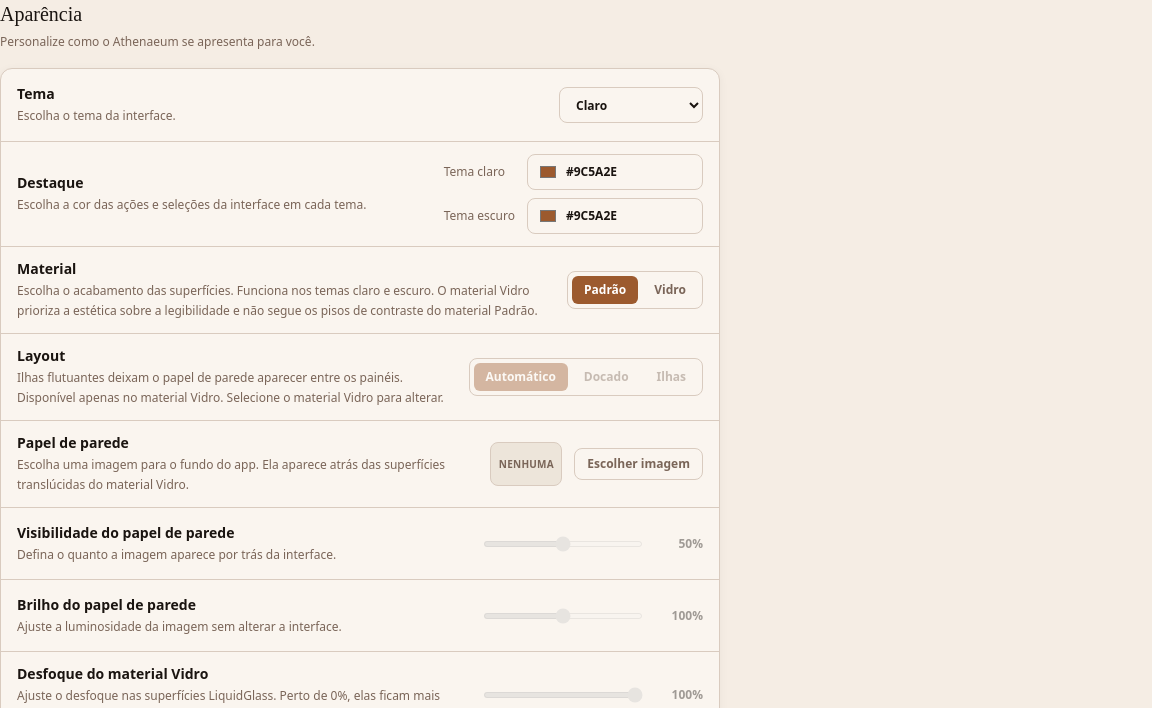
aviso na primeira selecao do material Vidro › abre o aviso e troca o material quando a chave esta ausente
The image size is (1152, 708).
Click the button "Vidro" at x=670, y=290, box [642,276,698,304]
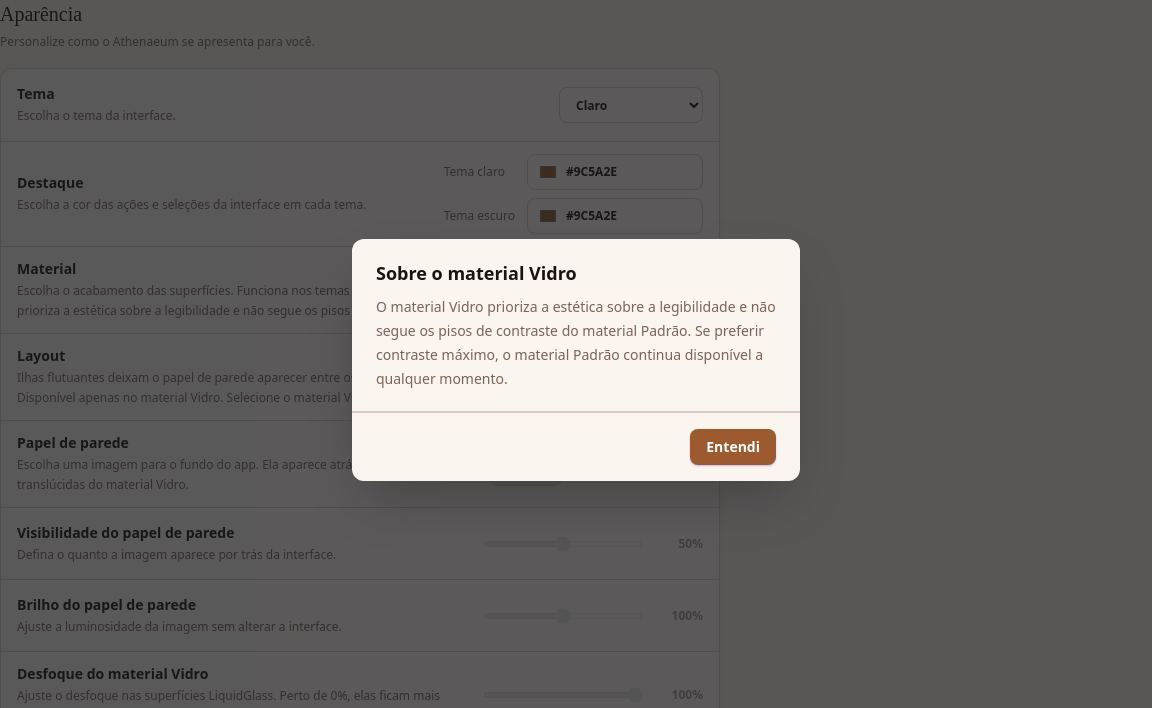
Expected: the dialog is shown, [352,239,800,481]
Expected: the dialog shows "Sobre o material Vidro", [376,261,577,285]
